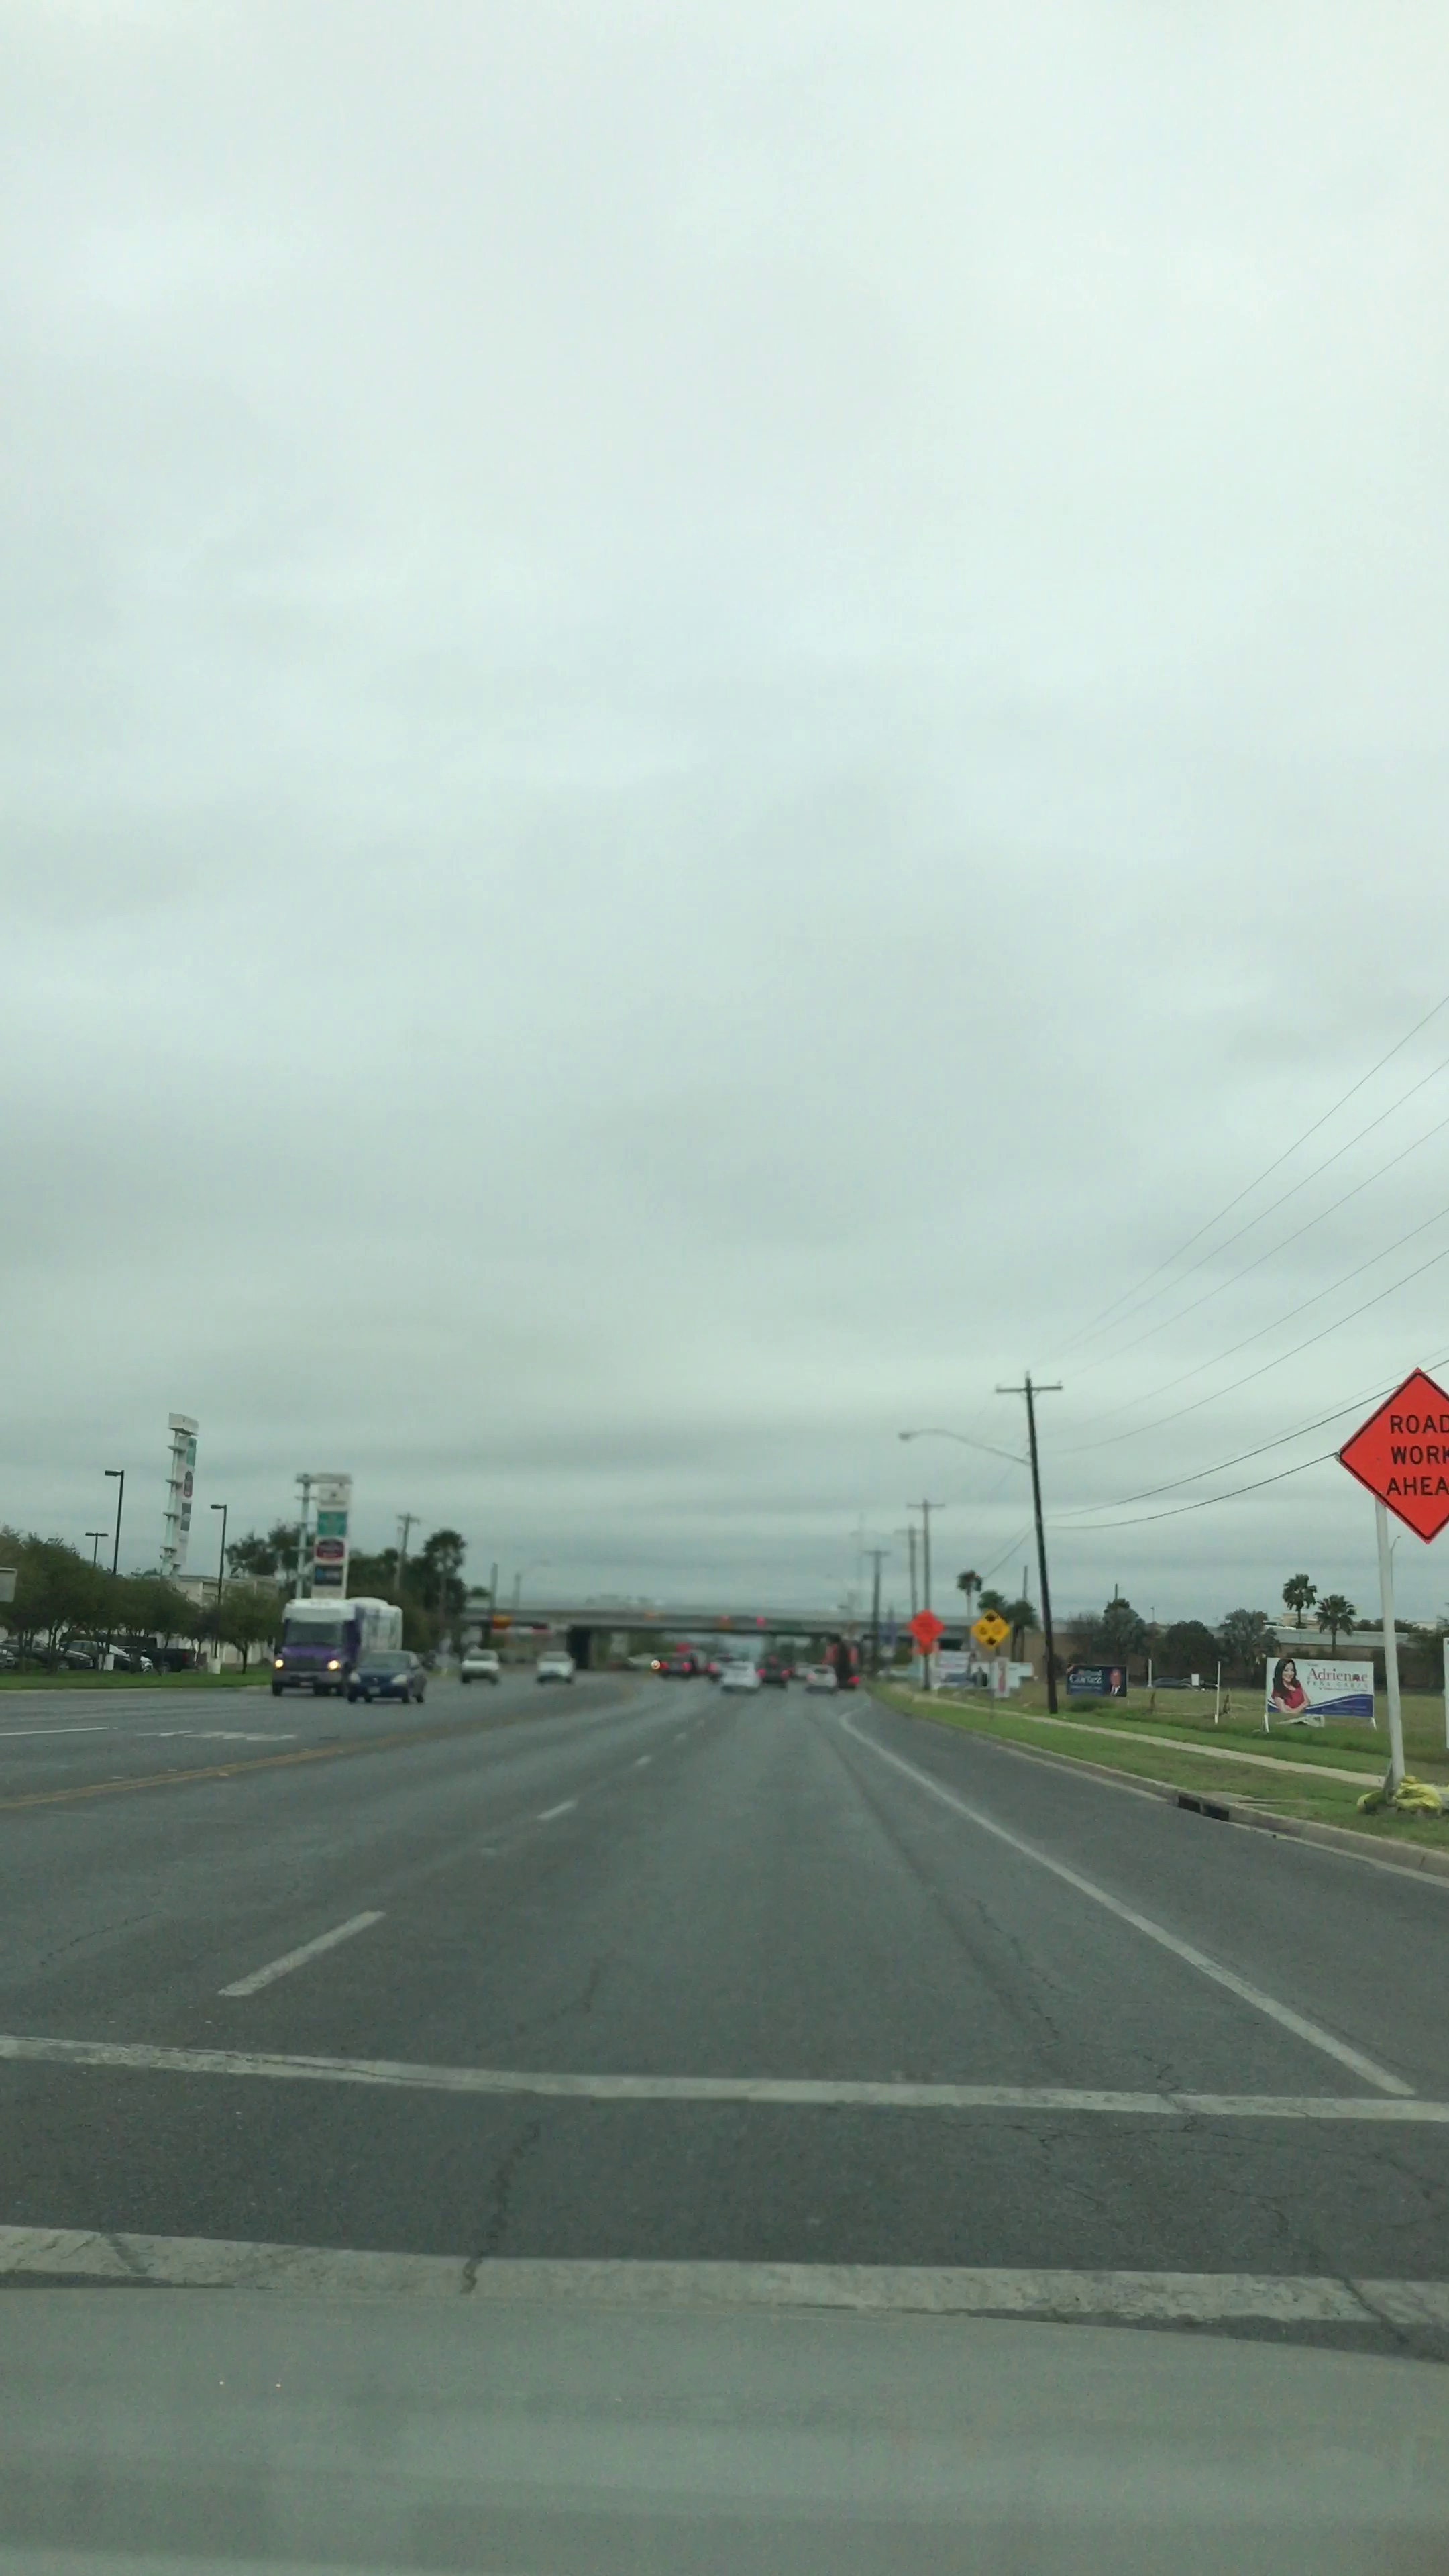crack: (384, 1927, 653, 2316), (961, 1913, 1228, 2212)
